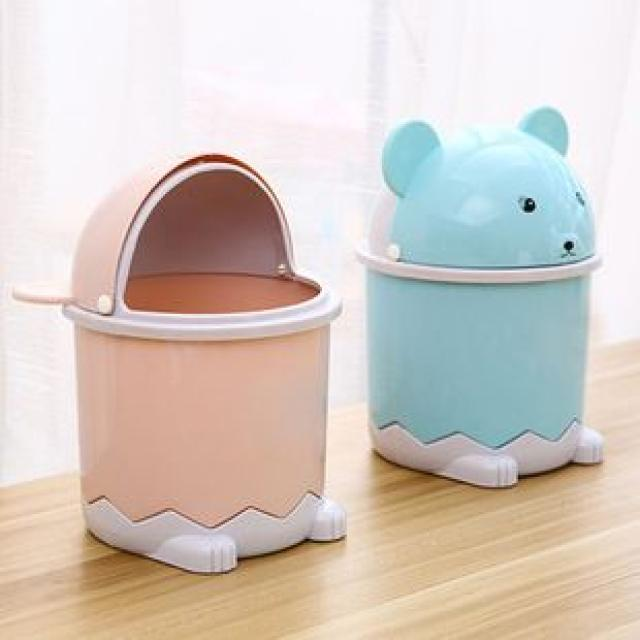dustbin: (12, 138, 360, 591)
